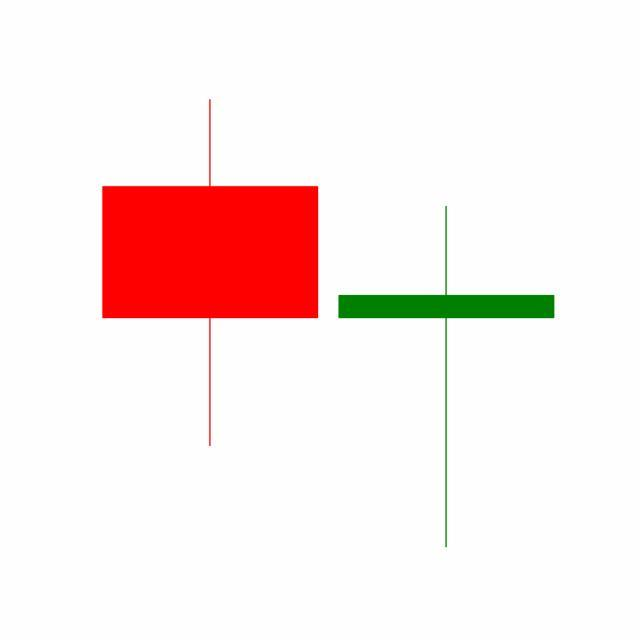Spinning Top: (328, 203, 566, 552)
